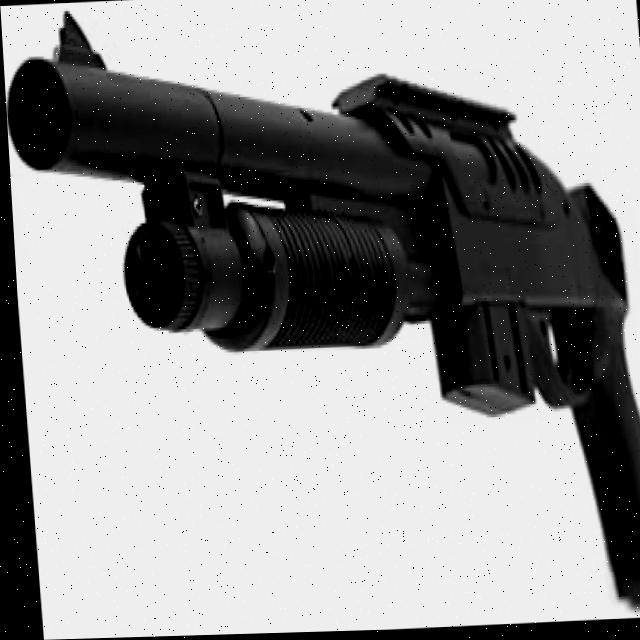firearm: (0, 0, 640, 635)
